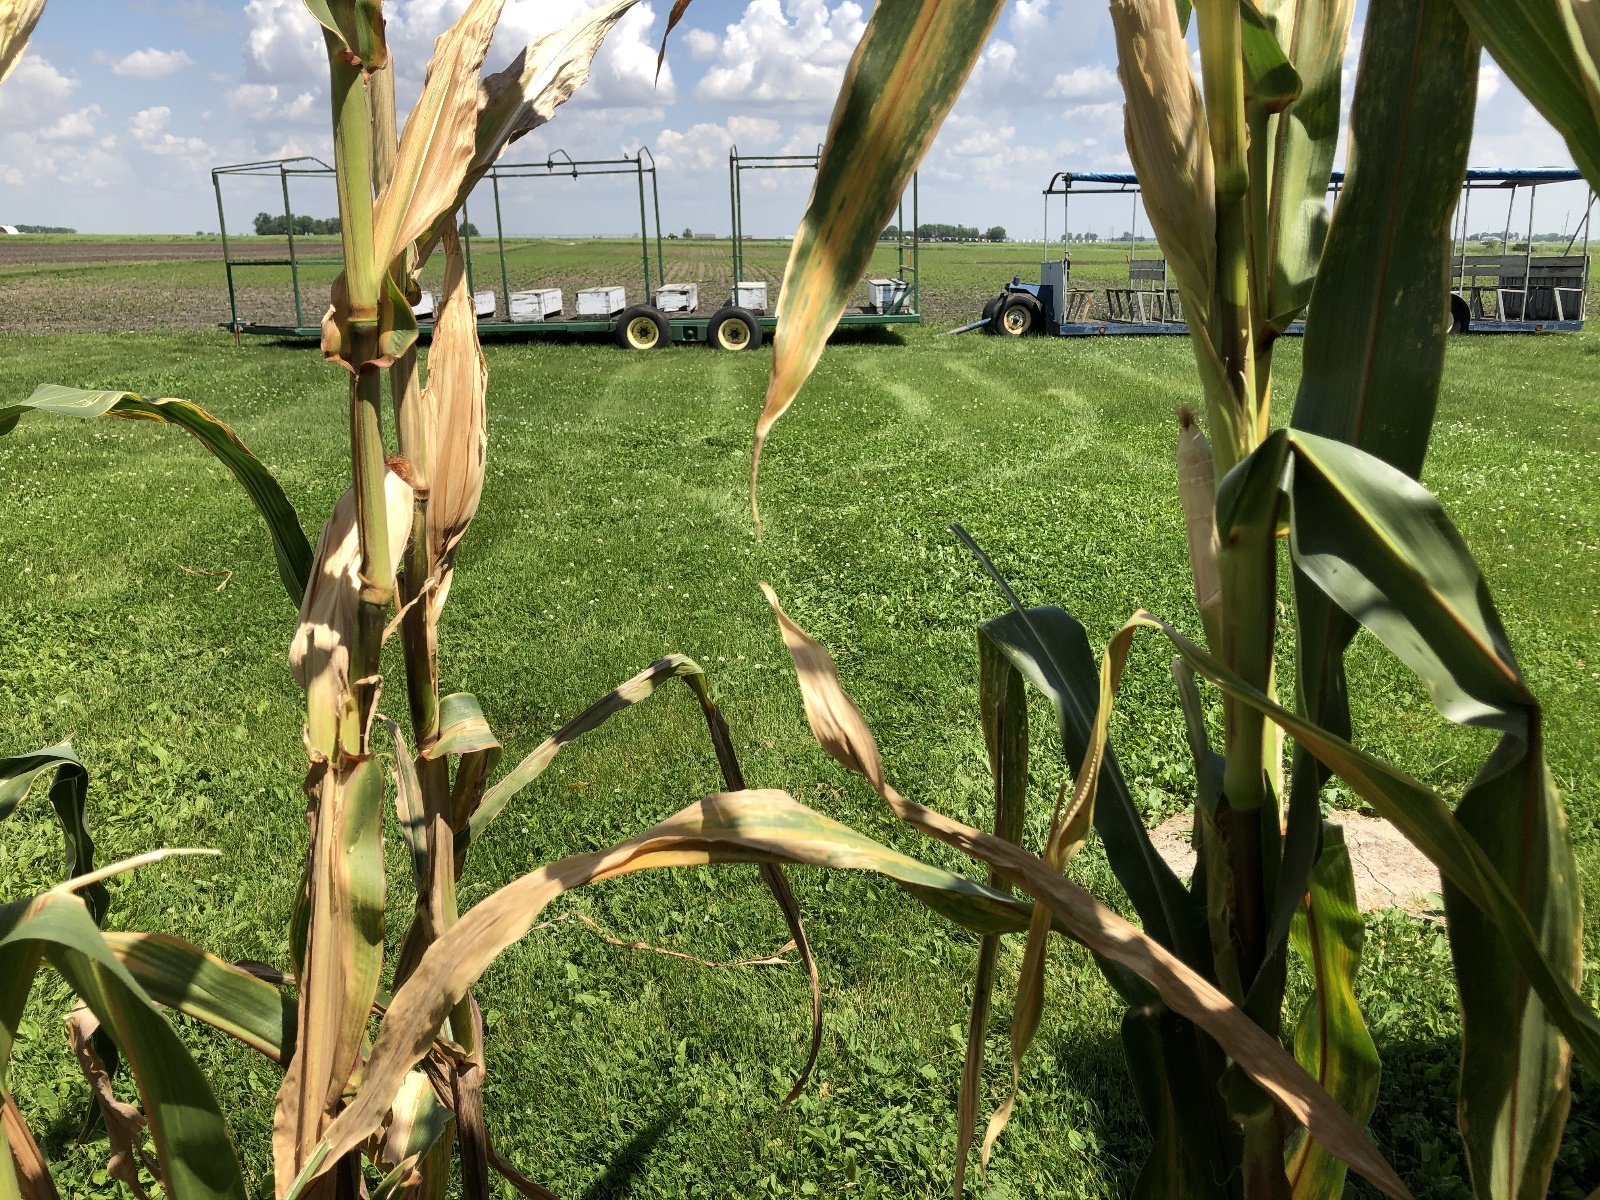ear: (1109, 4, 1230, 294), (283, 458, 409, 698), (414, 216, 488, 529), (1162, 391, 1231, 608)
